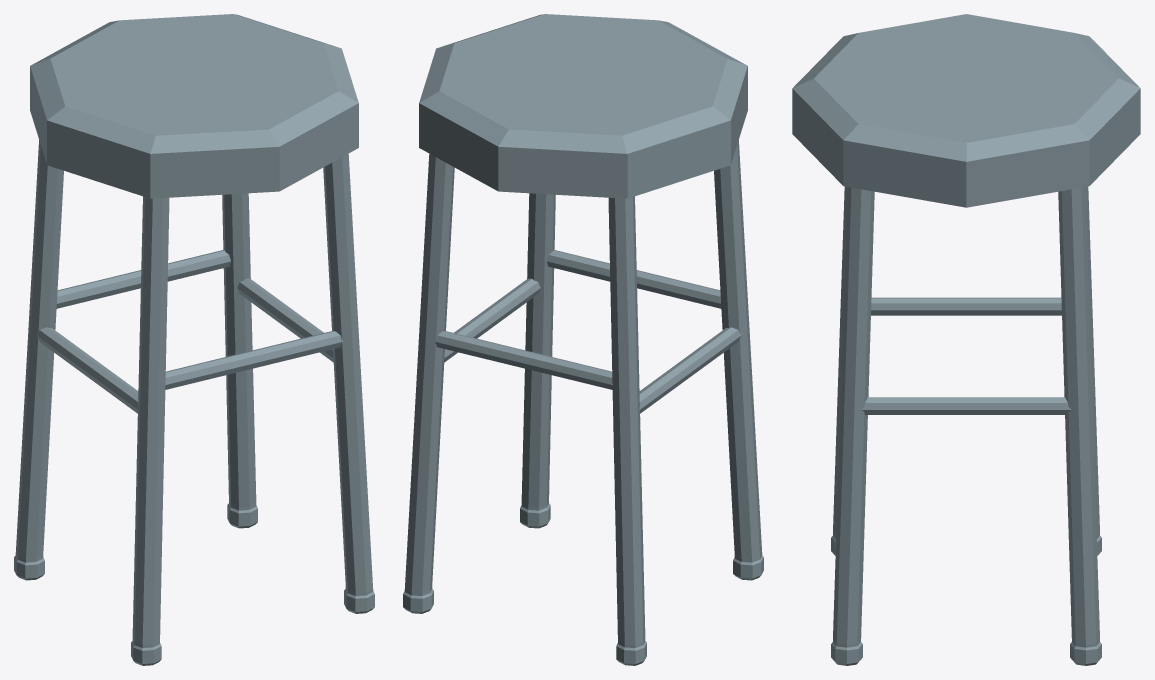
The model's file is eeb3395a-46dc-40d3-801b-c7f41d663c78.glb.
3 renders of one model, left to right at view 1: azimuth 30°, elevation 25°; view 2: azimuth 150°, elevation 25°; view 3: azimuth 270°, elevation 25°, orthographic. The views are drawn at different scales.
Parts seen in each view (by area): view 1: Stool_01_Cube.033; view 2: Stool_01_Cube.033; view 3: Stool_01_Cube.033.
Boxes of the visible parts, left/top/right/bottom form: Stool_01_Cube.033: left=14, top=14, right=374, bottom=665; Stool_01_Cube.033: left=403, top=14, right=763, bottom=665; Stool_01_Cube.033: left=792, top=14, right=1140, bottom=665.
Bounding box in the file's own units: 5.93 × 9.93 × 5.93.
